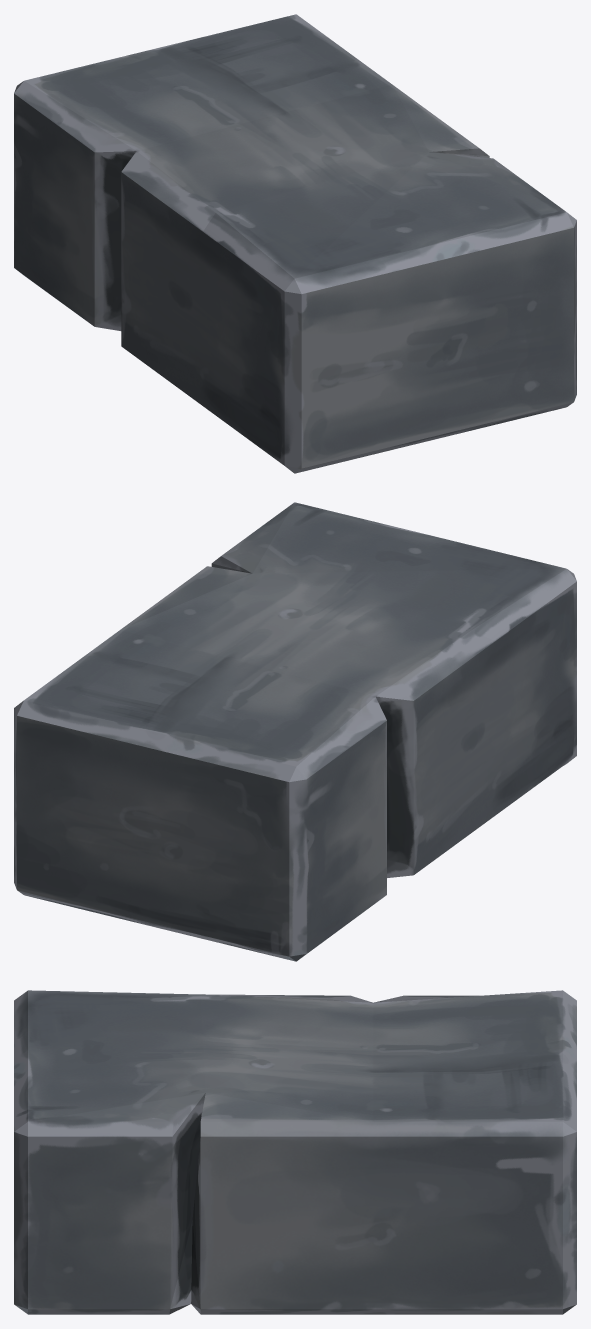
The model's file is babystein.fbx.
3 renders of one model, top to bottom at view 1: azimuth 30°, elevation 25°; view 2: azimuth 150°, elevation 25°; view 3: azimuth 270°, elevation 25°, orthographic.
Parts seen in each view (by area): view 1: Cube.001; view 2: Cube.001; view 3: Cube.001.
Boxes of the visible parts, x1,y1,x2,y2 form: Cube.001: (14, 14, 576, 473); Cube.001: (14, 502, 576, 961); Cube.001: (14, 990, 576, 1314).
Size of the model in its own units: 51.6 by 33.9 by 87.02.
1 material, 1 textured.
